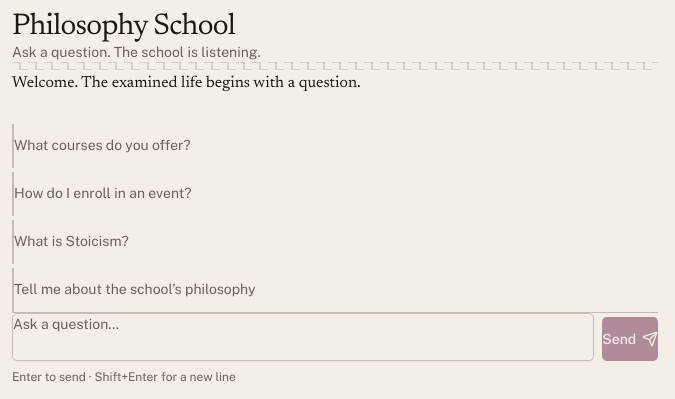
Test: frontend-shell-003 — student message appears in transcript on submit › appends the student turn to the transcript and sends it to the API
In the text box: (303, 337) [12,313,594,361], type "Tell me about Plato"
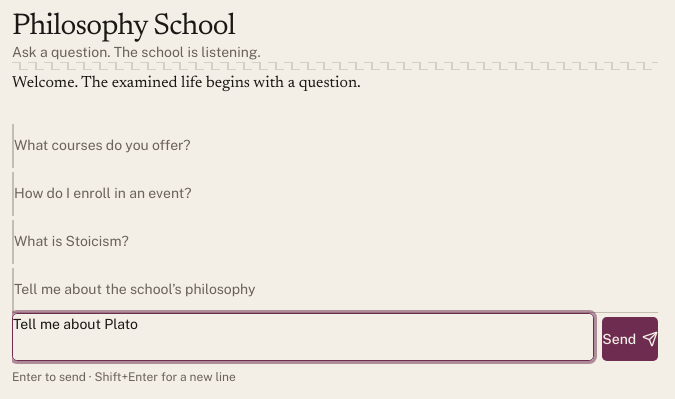
Press Enter
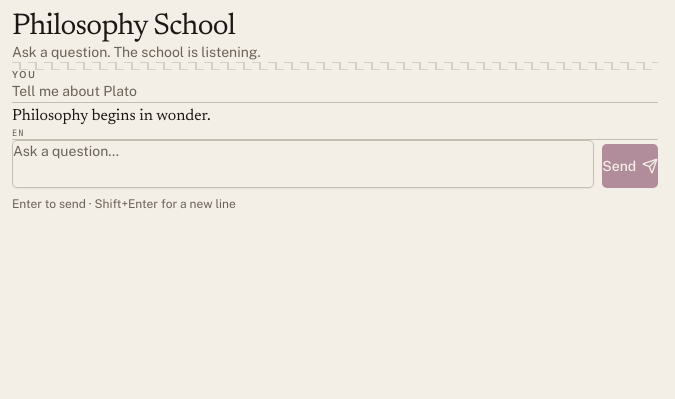
Check: the text "Tell me about Plato" is shown, box [12,83,137,99]
